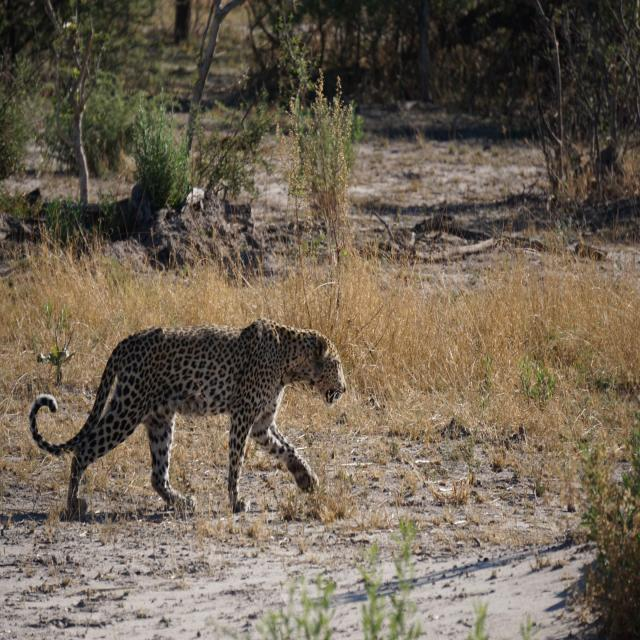Leopard: (25, 314, 345, 525)
